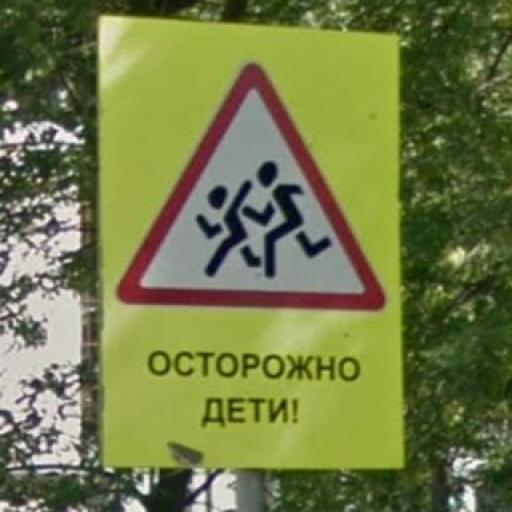traffic_sign: (116, 61, 388, 315)
